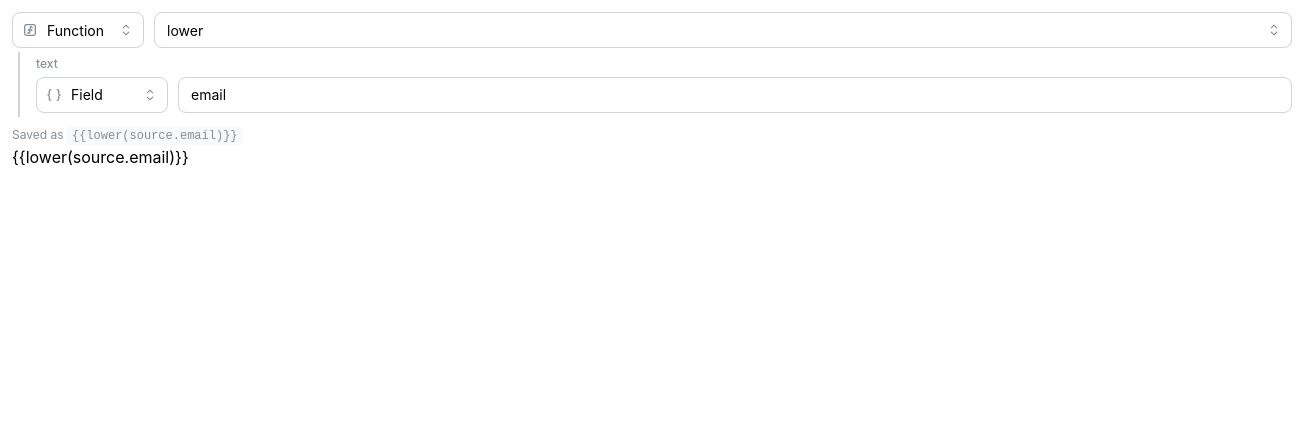
ValueBuilder › nests a function inside an argument
Click the dropdown named "Value › text type" at [102, 95], box [36,77,168,113]
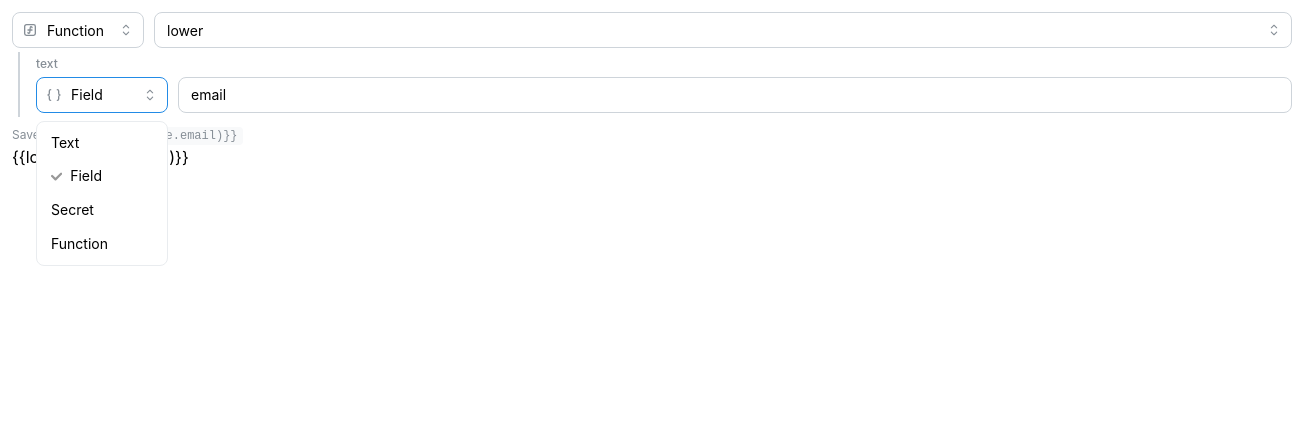
Click the option "Function" at [80, 243], box [51,235,108,252]
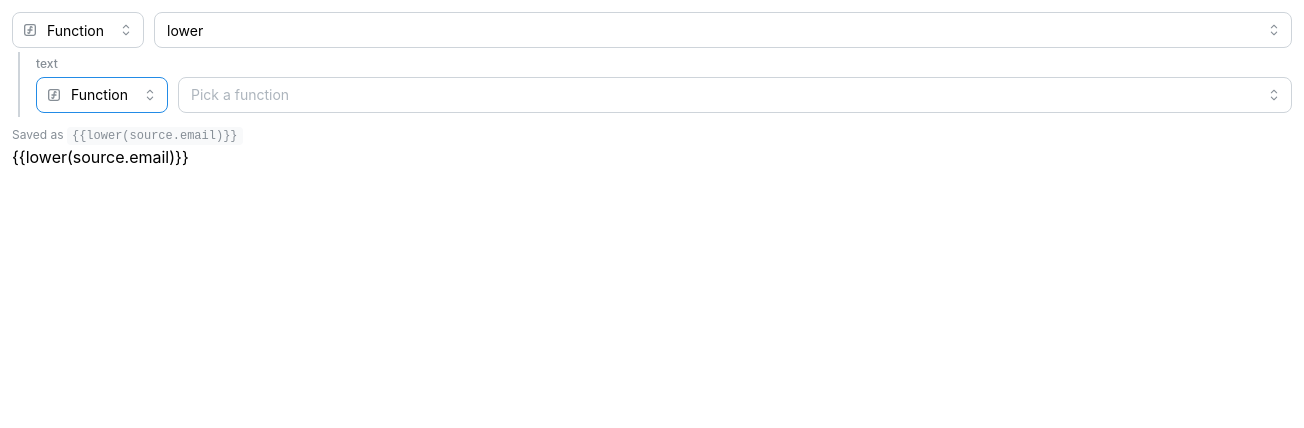
Click the dropdown named "Value › text function" at [735, 95], box [178,77,1292,113]
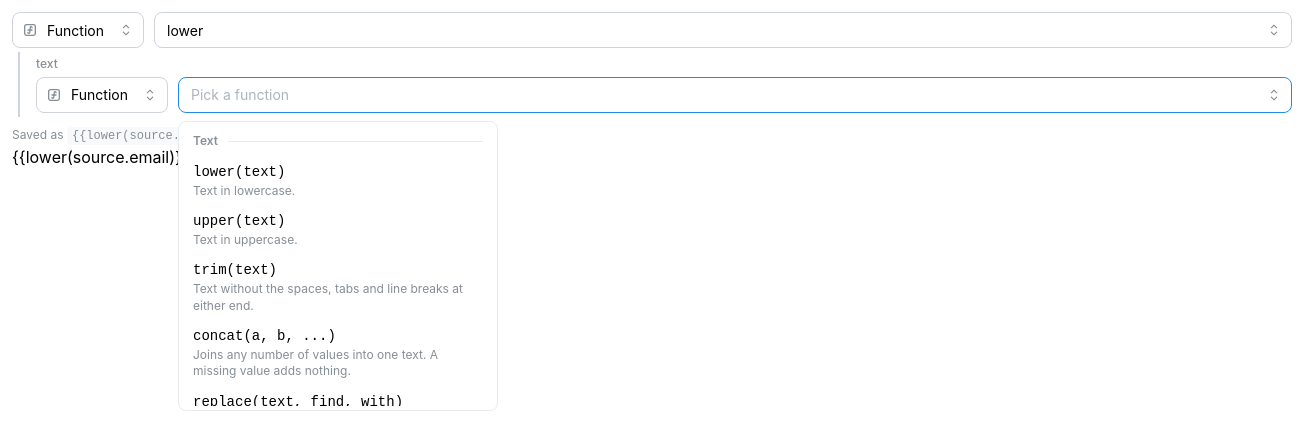
Click the option "trim" at [338, 287], box [183,254,493,320]
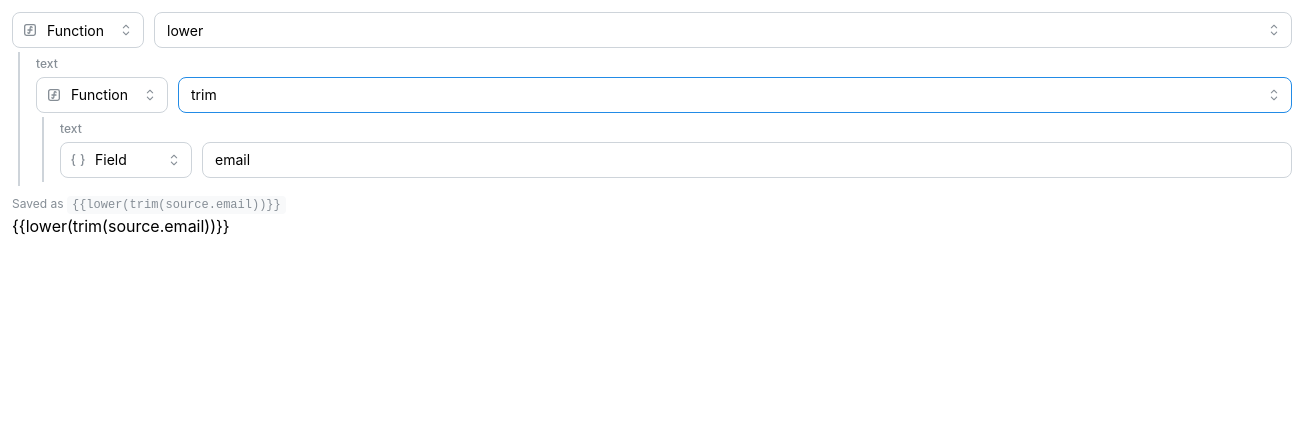
expect the text "{{lower(trim(source.email))}}" next to "Saved as" is shown: met, box [72,198,281,212]
